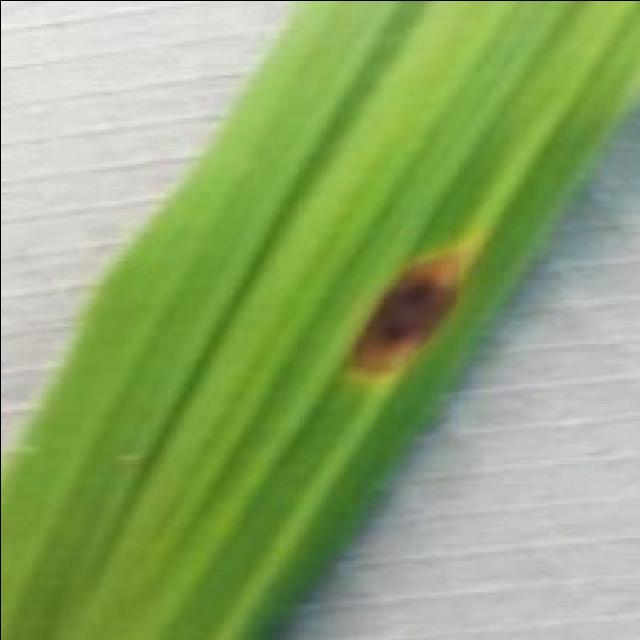Unhealthy: (345, 253, 461, 396)
